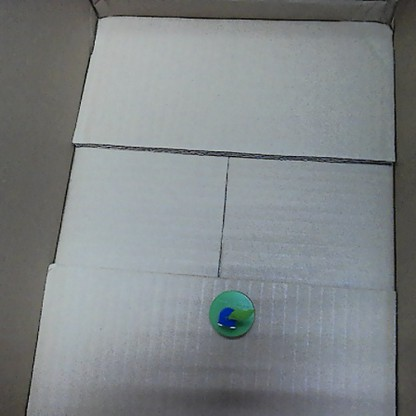leafairy: (202, 286, 255, 340)
